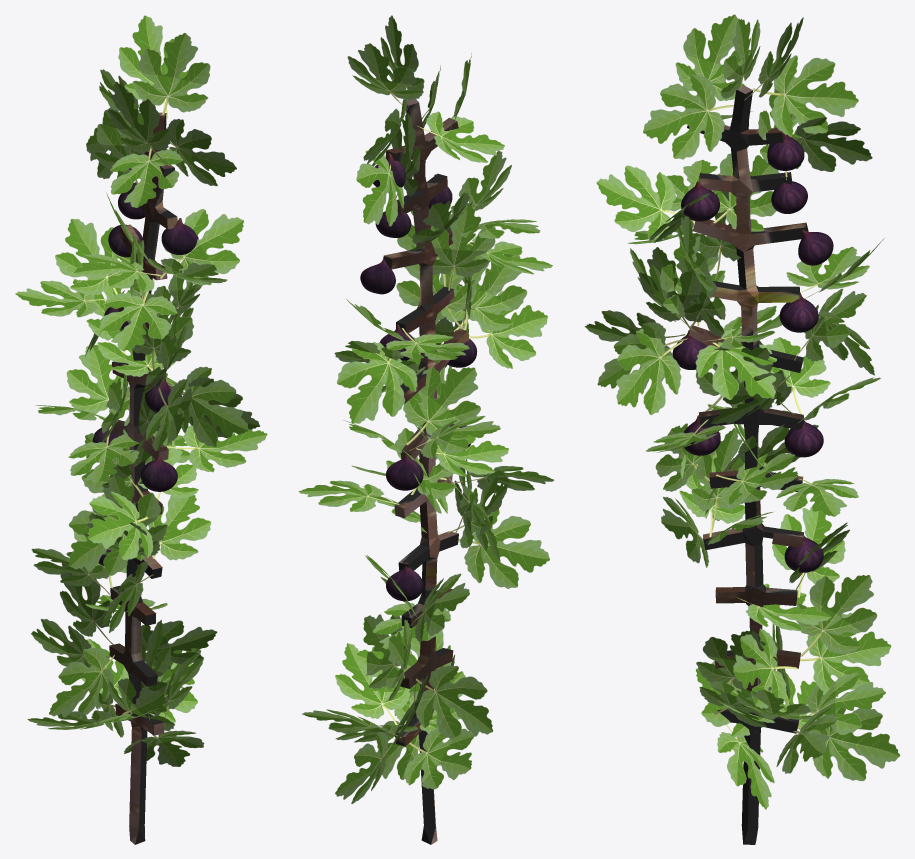
Rendered from fig.glb.
3 renders of one model, left to right at view 1: azimuth 30°, elevation 25°; view 2: azimuth 150°, elevation 25°; view 3: azimuth 270°, elevation 25°, orthographic. The views are drawn at different scales.
Parts seen in each view (by area): view 1: fig (×48), Cube, fig whole 1_fig outside_0.004, fig whole 1_fig outside_0.002, fig whole 1_fig outside_0.003; view 2: fig (×43), Cube, fig whole 1_fig outside_0.005, fig whole 1_fig outside_0.006, fig whole 1, fig whole 1_fig outside_0.001; view 3: fig (×51), Cube, fig whole 1_fig outside_0.008, fig whole 1_fig outside_0.002, fig whole 1_fig outside_0.005, fig whole 1_fig outside_0.007, fig whole 1, fig whole 1_fig outside_0.006, fig whole 1_fig outside_0.001, fig whole 1_fig outside_0.003, fig whole 1_fig outside_0.004.
Part boxes in pixels (x1=…): fig (×48): x1=15, y1=15, x2=267, y2=766; Cube: x1=108, y1=112, x2=177, y2=844; fig whole 1_fig outside_0.004: x1=140, y1=454, x2=177, y2=491; fig whole 1_fig outside_0.002: x1=161, y1=218, x2=198, y2=254; fig whole 1_fig outside_0.003: x1=145, y1=377, x2=181, y2=412; fig (×43): x1=298, y1=15, x2=554, y2=803; Cube: x1=383, y1=98, x2=469, y2=844; fig whole 1_fig outside_0.005: x1=386, y1=454, x2=423, y2=490; fig whole 1_fig outside_0.006: x1=386, y1=562, x2=423, y2=601; fig whole 1: x1=360, y1=259, x2=395, y2=294; fig whole 1_fig outside_0.001: x1=375, y1=201, x2=411, y2=237; fig (×51): x1=584, y1=14, x2=900, y2=809; Cube: x1=687, y1=85, x2=808, y2=844; fig whole 1_fig outside_0.008: x1=779, y1=292, x2=818, y2=332; fig whole 1_fig outside_0.002: x1=681, y1=181, x2=719, y2=221; fig whole 1_fig outside_0.005: x1=784, y1=421, x2=823, y2=457; fig whole 1_fig outside_0.007: x1=767, y1=133, x2=804, y2=170; fig whole 1: x1=798, y1=229, x2=833, y2=265; fig whole 1_fig outside_0.006: x1=784, y1=532, x2=823, y2=572; fig whole 1_fig outside_0.001: x1=771, y1=176, x2=807, y2=213; fig whole 1_fig outside_0.003: x1=672, y1=329, x2=706, y2=369; fig whole 1_fig outside_0.004: x1=683, y1=415, x2=720, y2=455.
Size of the model in its own units: 0.7792 by 3.33 by 1.13.
11 materials, 11 textured.
